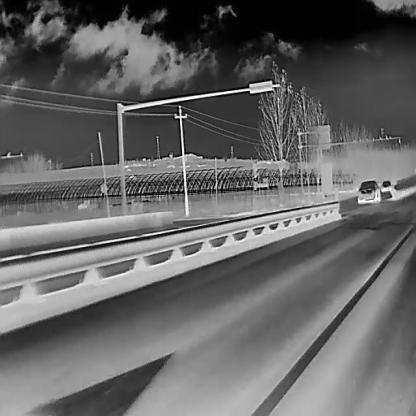car: (356, 180, 380, 204), (380, 179, 392, 191)
